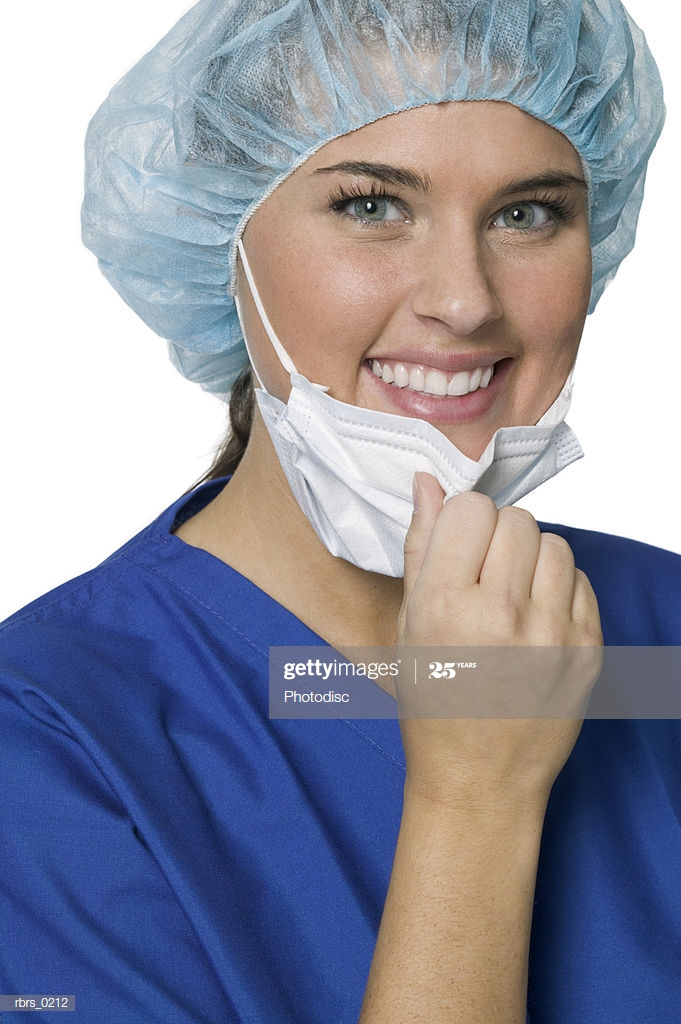mask_weared_incorrect: (312, 156, 571, 533)
